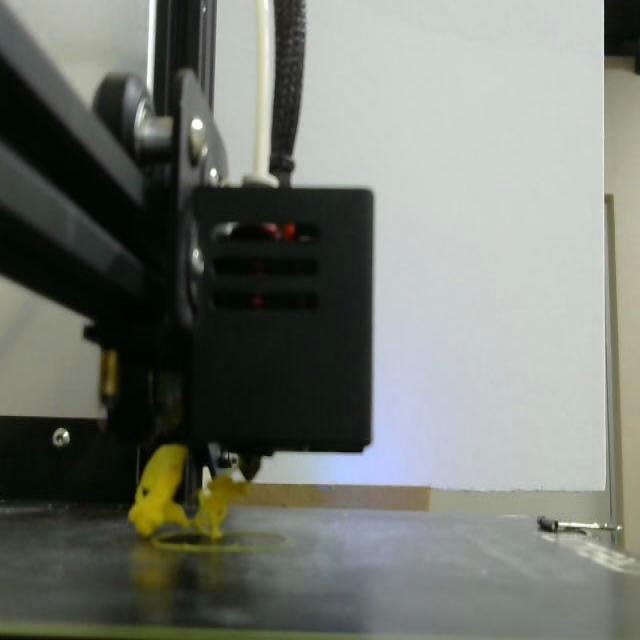spaghetti: (123, 441, 261, 561)
